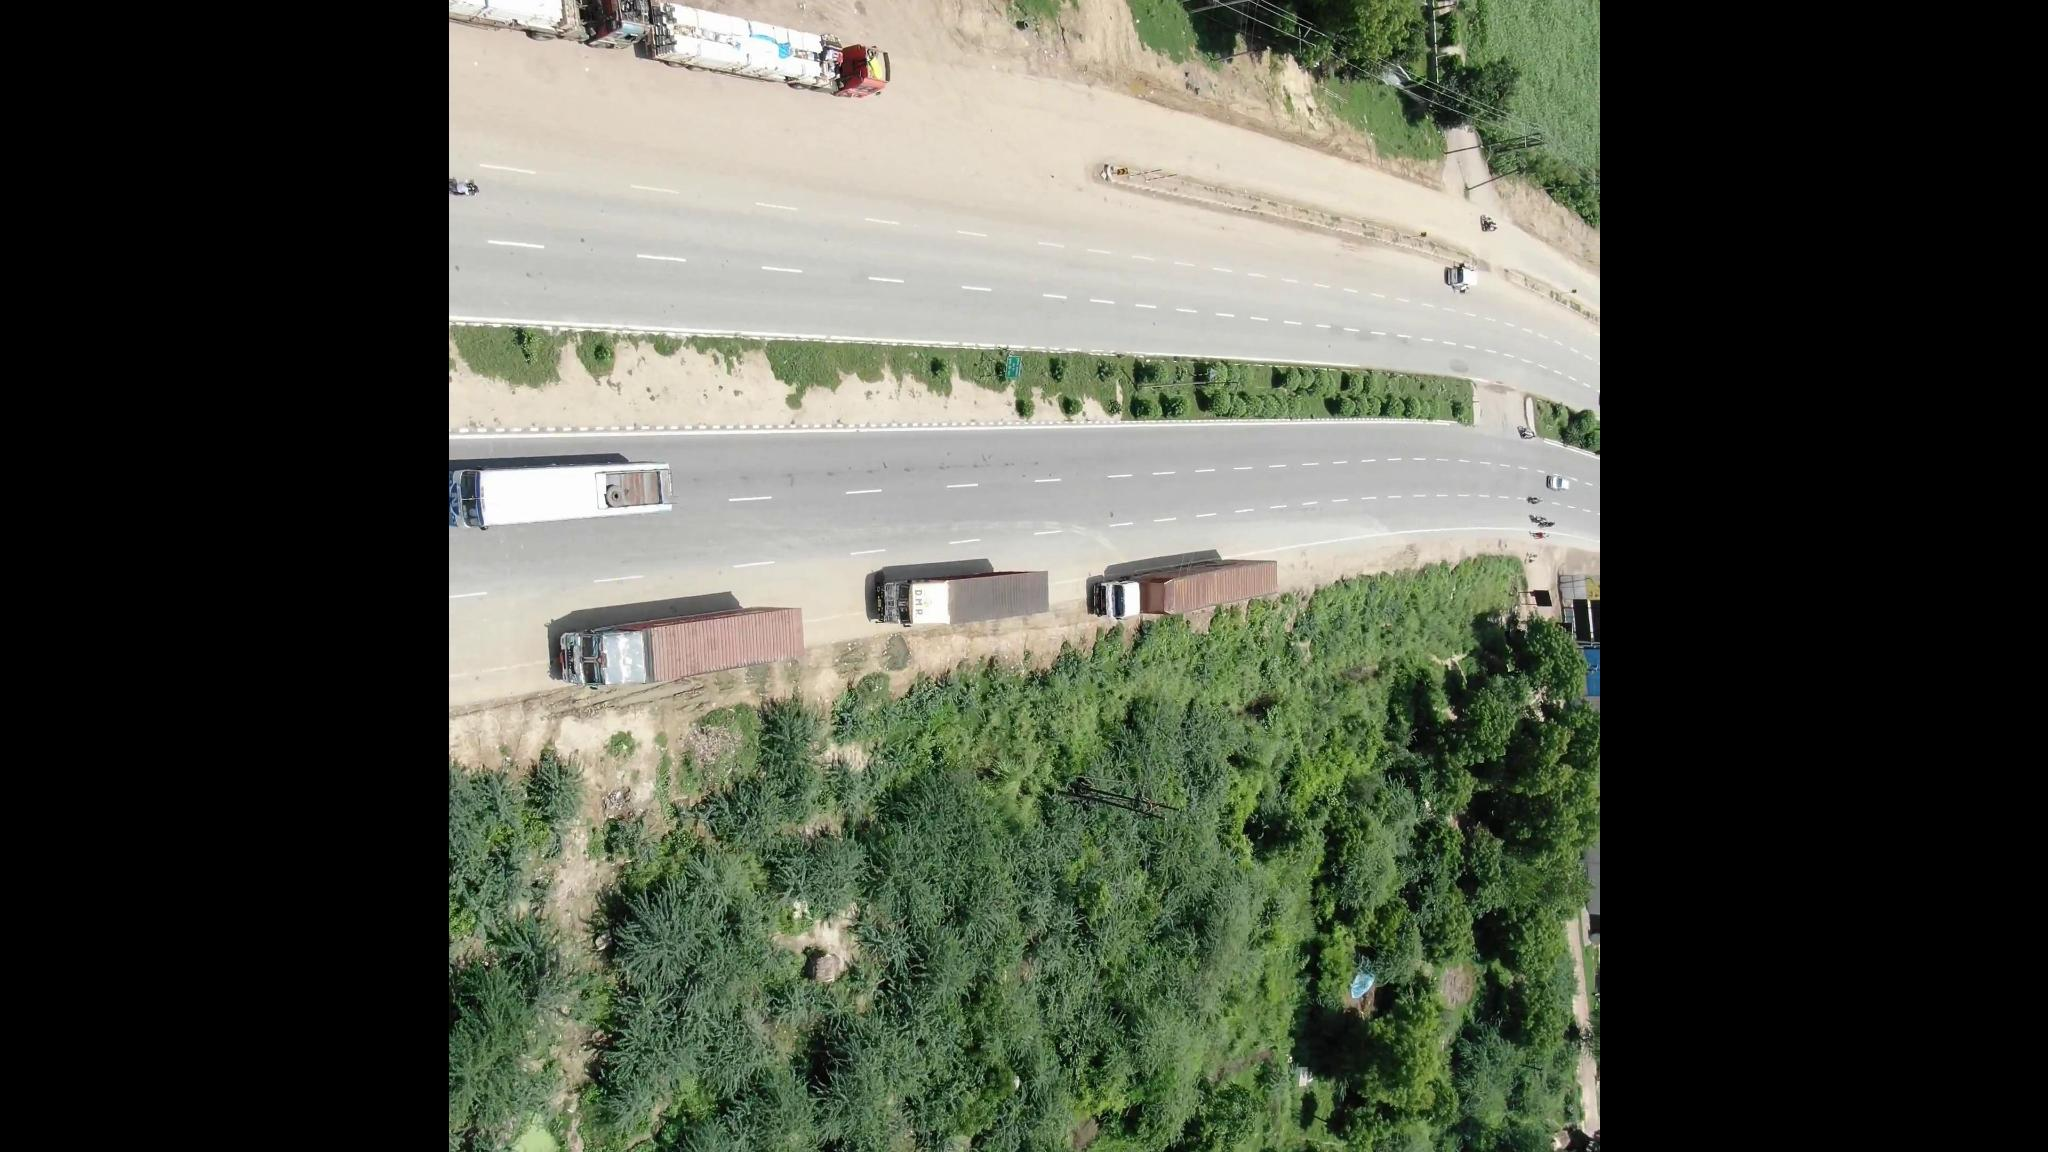Muddy_road: (906, 58, 1068, 211)
